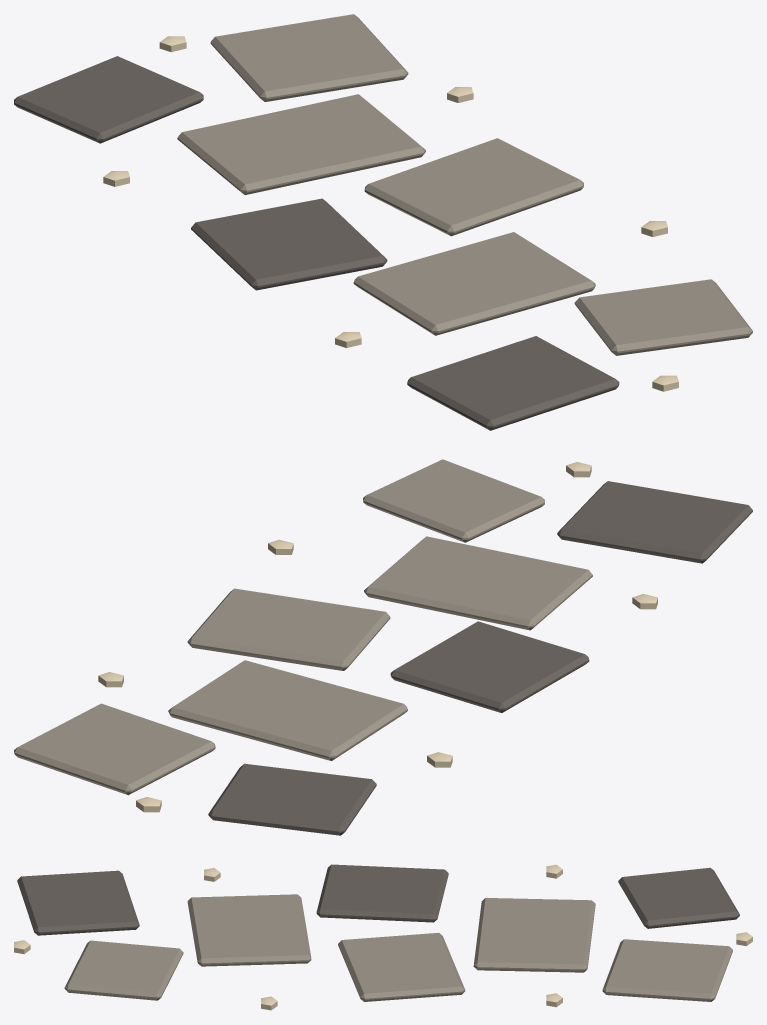
The model's file is PR_Decor_TasYol.fbx.
3 views of the same model, one above another, from view 1: azimuth 30°, elevation 25°; view 2: azimuth 150°, elevation 25°; view 3: azimuth 270°, elevation 25° (orthographic). The views are drawn at different scales.
Parts seen in each view (by area): view 1: PR_Decor_TasYol; view 2: PR_Decor_TasYol; view 3: PR_Decor_TasYol.
Boxes of the visible parts, box(x1,y1,x2,y2) form: PR_Decor_TasYol: box(14, 14, 752, 430); PR_Decor_TasYol: box(14, 459, 752, 835); PR_Decor_TasYol: box(14, 864, 752, 1010).
Bounding box in the file's own units: 0.8777 × 0.028 × 1.94.
1 material, 1 textured.
